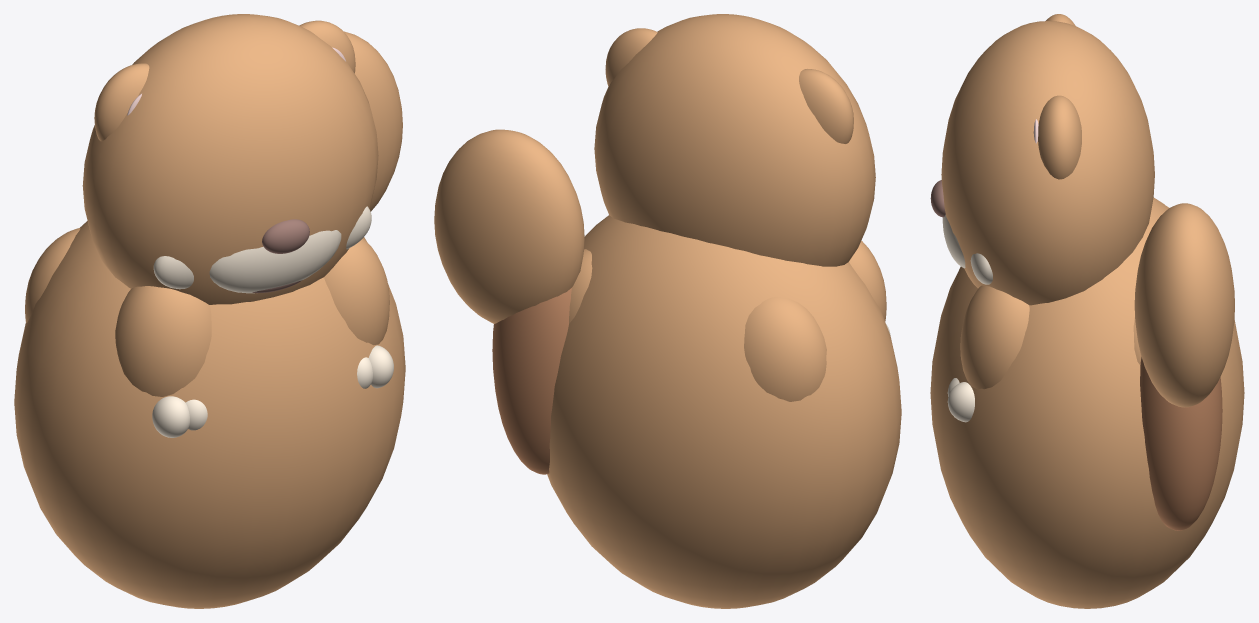
Rendered from squirrel.gltf.
3 views of the same model, side by side, from view 1: azimuth 30°, elevation 25°; view 2: azimuth 150°, elevation 25°; view 3: azimuth 270°, elevation 25° (orthographic). The views are drawn at different scales.
Visible parts, largest first — view 1: Body, Head, PawFront (×2), Muzzle, TailUpper, Ear (×2), Toe (×2), PawBack, Cheek (×2), Nose; view 2: Body, Head, TailUpper, TailLower, PawBack (×2), Ear (×2), PawFront; view 3: Body, Head, TailUpper, TailLower, PawFront, Ear, Toe, Muzzle, Cheek.
Part boxes in pixels (x1,y1,x2,y2): Body: (14,221,405,608); Head: (82,14,378,304); PawFront (×2): (115,238,389,396); Muzzle: (209,230,341,293); TailUpper: (343,31,402,211); Ear (×2): (94,20,355,141); Toe (×2): (152,345,393,437); PawBack: (25,228,80,322); Cheek (×2): (153,206,371,289); Nose: (262,219,309,253); Body: (547,215,901,608); Head: (594,14,875,266); TailUpper: (434,129,584,323); TailLower: (492,287,572,474); PawBack (×2): (569,249,826,401); Ear (×2): (605,28,853,143); PawFront: (849,241,886,321); Body: (930,197,1244,608); Head: (941,21,1154,305); TailUpper: (1134,203,1234,407); TailLower: (1140,357,1222,530); PawFront: (960,285,1029,389); Ear: (1038,95,1081,179); Toe: (947,382,974,422); Muzzle: (942,214,965,268); Cheek: (970,253,992,284).
Bounding box in the file's own units: 1.57 × 2.12 × 1.08.
